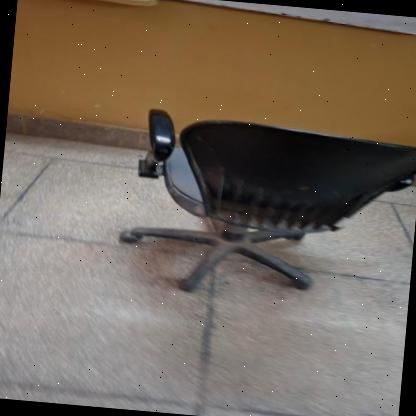chair: (110, 95, 416, 315)
